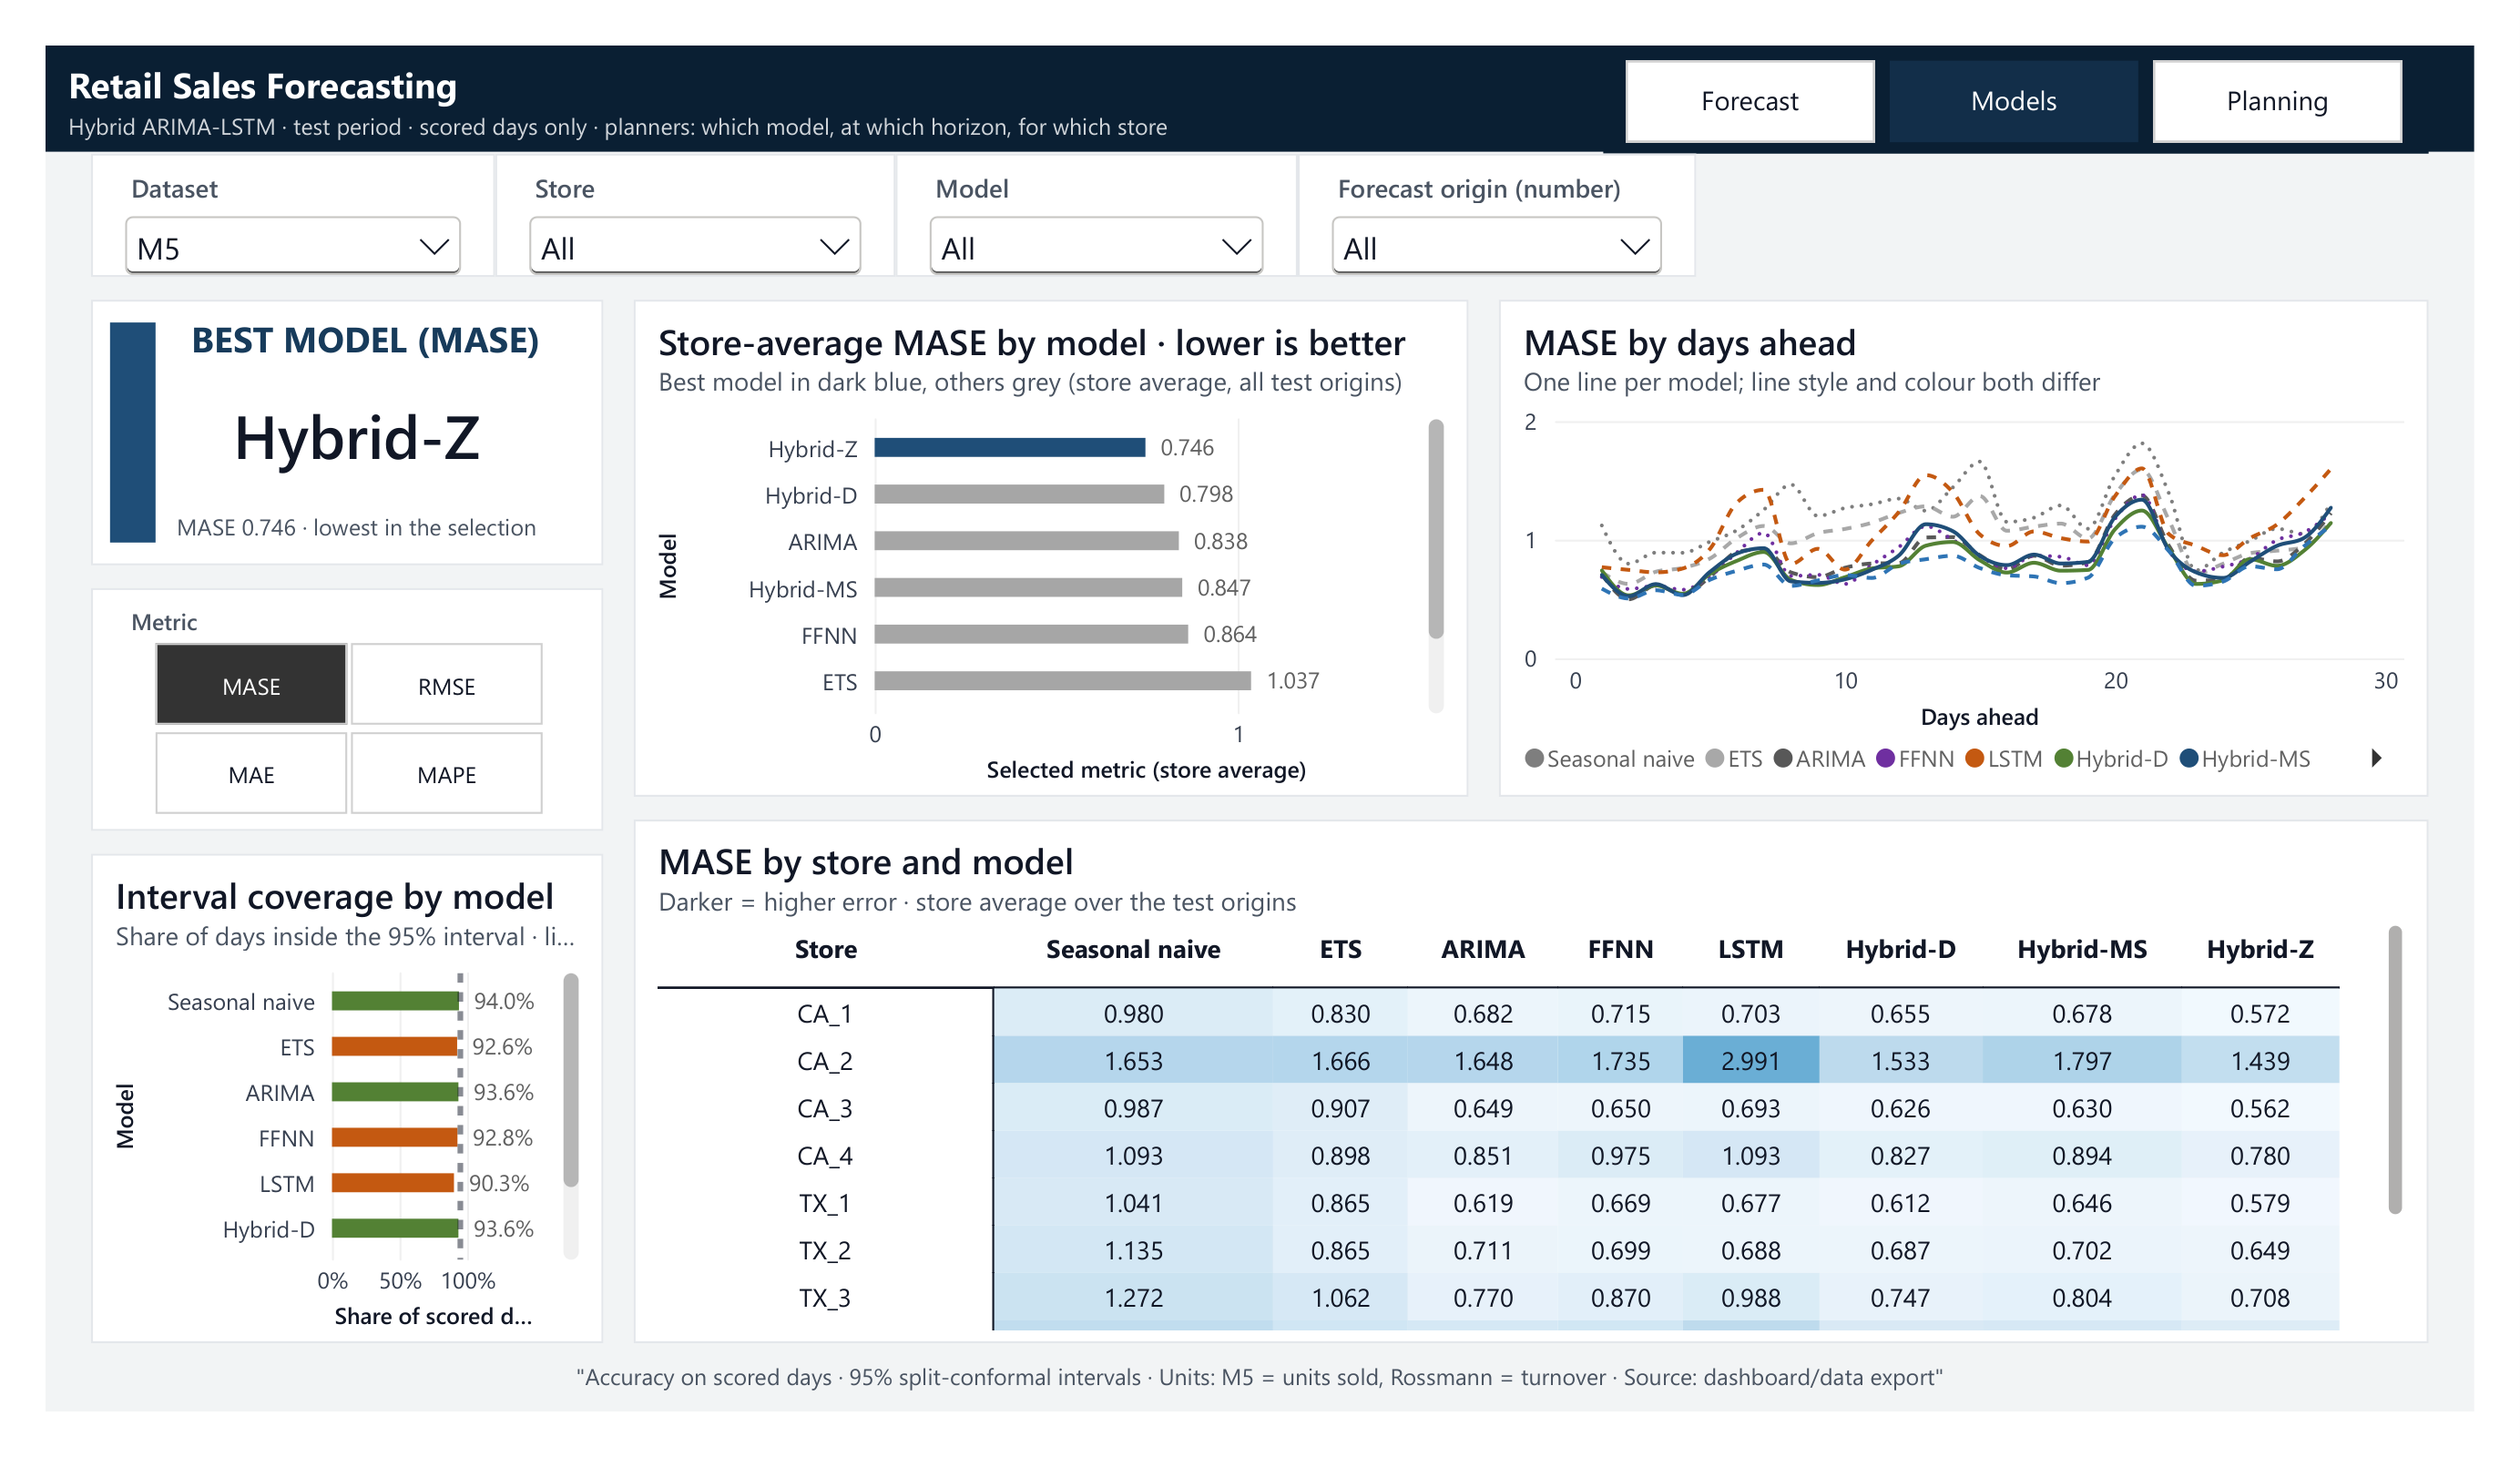

This screenshot's page, from the dashboard's own definition file:
{"tool":"powerbi","page":{"name":"Models","canvas":[1280,720],"ordinal":1},"visuals":[{"type":"textbox","box":[0,0,1280,56],"z":1000},{"type":"pageNavigator","box":[820.6,0,435.1,56.7],"z":2000},{"type":"slicer","fields":{"Values":["dim_series.dataset"]},"box":[24.1,56.7,212.6,65.2],"z":3000},{"type":"slicer","fields":{"Values":["dim_series.series_id"]},"box":[236.7,56.7,211.2,65.2],"z":4000},{"type":"slicer","fields":{"Values":["dim_model.model_short"]},"box":[447.9,56.7,212.6,65.2],"z":5000},{"type":"slicer","fields":{"Values":["fact_forecast.origin_number"]},"box":[660.5,56.7,209.8,65.2],"z":6000},{"type":"textbox","box":[24,134,270,140],"z":7000},{"type":"textbox","box":[34,146,5,116],"z":8000},{"type":"textbox","box":[46,142,240,26],"z":9000},{"type":"card","fields":{"Values":["_Measures.Best Model (display)"]},"box":[44,168,240,76],"z":10000},{"type":"card","fields":{"Values":["_Measures.Best Model Subtitle"]},"box":[44,244,240,24],"z":11000},{"type":"slicer","fields":{"Values":["Metric.Metric"]},"box":[24,286,270,128],"z":12000},{"type":"clusteredBarChart","title":"Interval coverage by model","fields":{"Category":["dim_model.model_short"],"Y":["_Measures.Interval Coverage %"]},"box":[24,426,270,258],"z":13000},{"type":"clusteredBarChart","fields":{"Category":["dim_model.model_short"],"Y":["_Measures.Selected Metric (store average)"]},"box":[310,134,440,262],"z":14000},{"type":"lineChart","fields":{"Category":["fact_forecast.horizon"],"Series":["dim_model.model_short"],"Y":["_Measures.Selected Metric"]},"box":[766,134,490,262],"z":15000},{"type":"pivotTable","title":"MASE by store and model","fields":{"Columns":["dim_model.model_short"],"Rows":["dim_series.series_id"],"Values":["_Measures.MASE (store average)"]},"box":[310,408,946,276],"z":16000},{"type":"textbox","box":[23.8,683.8,1232.5,33.8],"z":17000}]}

Visuals, with their boxes on the page's 1280x720 design canvas (x1, y1, x2, y2). These are canvas units, not pixel positions in the 2520x1457 screenshot, which may show the page scaled, cropped or inside an application window:
textbox: [x1=0, y1=0, x2=1280, y2=56]
pageNavigator: [x1=821, y1=0, x2=1256, y2=57]
slicer - dim_series.dataset: [x1=24, y1=57, x2=237, y2=122]
slicer - dim_series.series_id: [x1=237, y1=57, x2=448, y2=122]
slicer - dim_model.model_short: [x1=448, y1=57, x2=660, y2=122]
slicer - fact_forecast.origin_number: [x1=660, y1=57, x2=870, y2=122]
textbox: [x1=24, y1=134, x2=294, y2=274]
textbox: [x1=34, y1=146, x2=39, y2=262]
textbox: [x1=46, y1=142, x2=286, y2=168]
card - _Measures.Best Model (display): [x1=44, y1=168, x2=284, y2=244]
card - _Measures.Best Model Subtitle: [x1=44, y1=244, x2=284, y2=268]
slicer - Metric.Metric: [x1=24, y1=286, x2=294, y2=414]
"Interval coverage by model" clusteredBarChart: [x1=24, y1=426, x2=294, y2=684]
clusteredBarChart - dim_model.model_short x _Measures.Selected Metric (store average): [x1=310, y1=134, x2=750, y2=396]
lineChart - fact_forecast.horizon x dim_model.model_short: [x1=766, y1=134, x2=1256, y2=396]
"MASE by store and model" pivotTable: [x1=310, y1=408, x2=1256, y2=684]
textbox: [x1=24, y1=684, x2=1256, y2=718]
